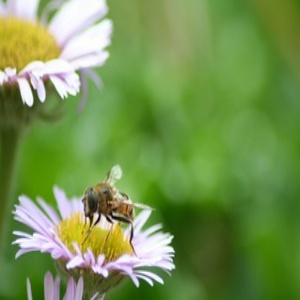bee: (81, 163, 153, 261)
